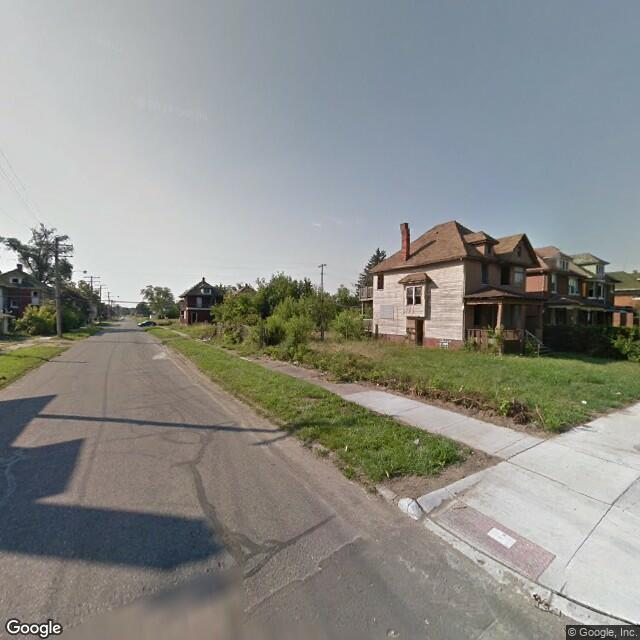litter: (575, 393, 598, 406), (405, 436, 425, 446)
